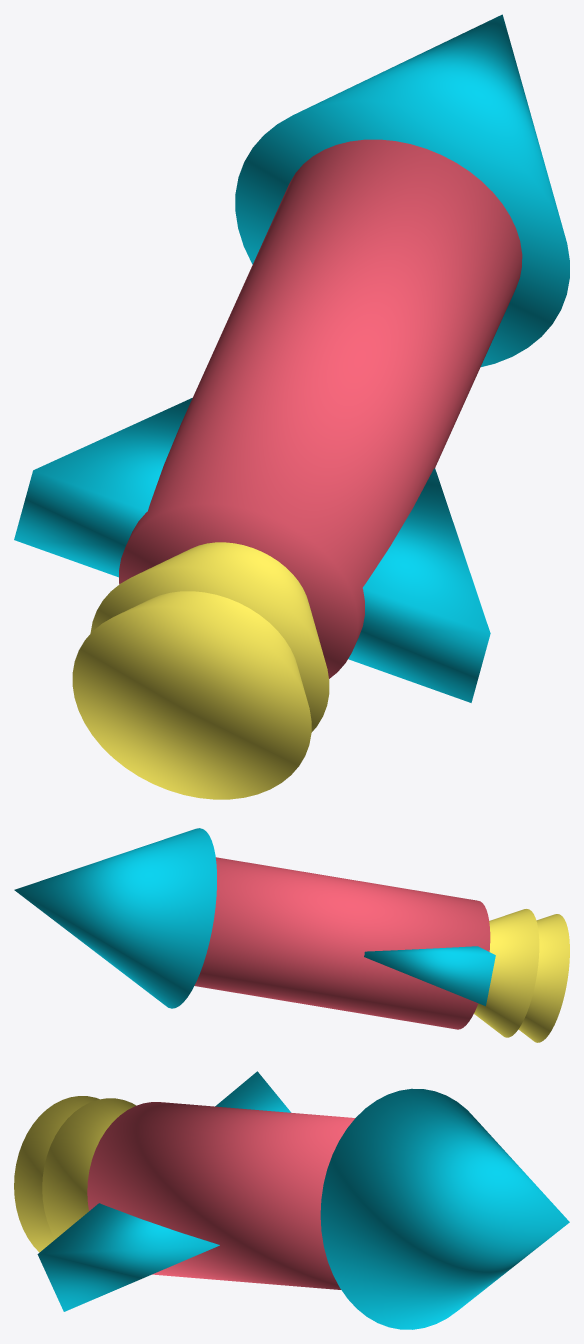
File: fusee.glb
3 renders of one model, top to bottom at view 1: azimuth 30°, elevation 25°; view 2: azimuth 150°, elevation 25°; view 3: azimuth 270°, elevation 25°, orthographic. The views are drawn at different scales.
Parts seen in each view (by area): view 1: obj_2_color_15277357, obj_0_color_16768282, obj_3_color_40919, obj_4_color_40919, obj_5_color_40919, obj_1_color_16768282; view 2: obj_2_color_15277357, obj_3_color_40919, obj_1_color_16768282, obj_5_color_40919, obj_0_color_16768282; view 3: obj_3_color_40919, obj_2_color_15277357, obj_4_color_40919, obj_1_color_16768282, obj_0_color_16768282, obj_5_color_40919.
Part boxes in pixels (x1,y1,x2,y2): obj_2_color_15277357: (119,139,522,678); obj_0_color_16768282: (72,591,311,799); obj_3_color_40919: (235,14,569,366); obj_4_color_40919: (348,468,490,702); obj_5_color_40919: (14,398,192,577); obj_1_color_16768282: (90,542,329,732); obj_2_color_15277357: (194,857,490,1029); obj_3_color_40919: (14,828,216,1008); obj_1_color_16768282: (474,909,539,1037); obj_5_color_40919: (364,946,495,1006); obj_0_color_16768282: (518,914,569,1042); obj_3_color_40919: (320,1088,569,1329); obj_2_color_15277357: (87,1102,355,1289); obj_4_color_40919: (37,1203,219,1311); obj_1_color_16768282: (42,1098,135,1238); obj_0_color_16768282: (14,1096,99,1252); obj_5_color_40919: (215,1071,290,1112).
Size of the model in its own units: 68.59 by 39.06 by 64.41.
